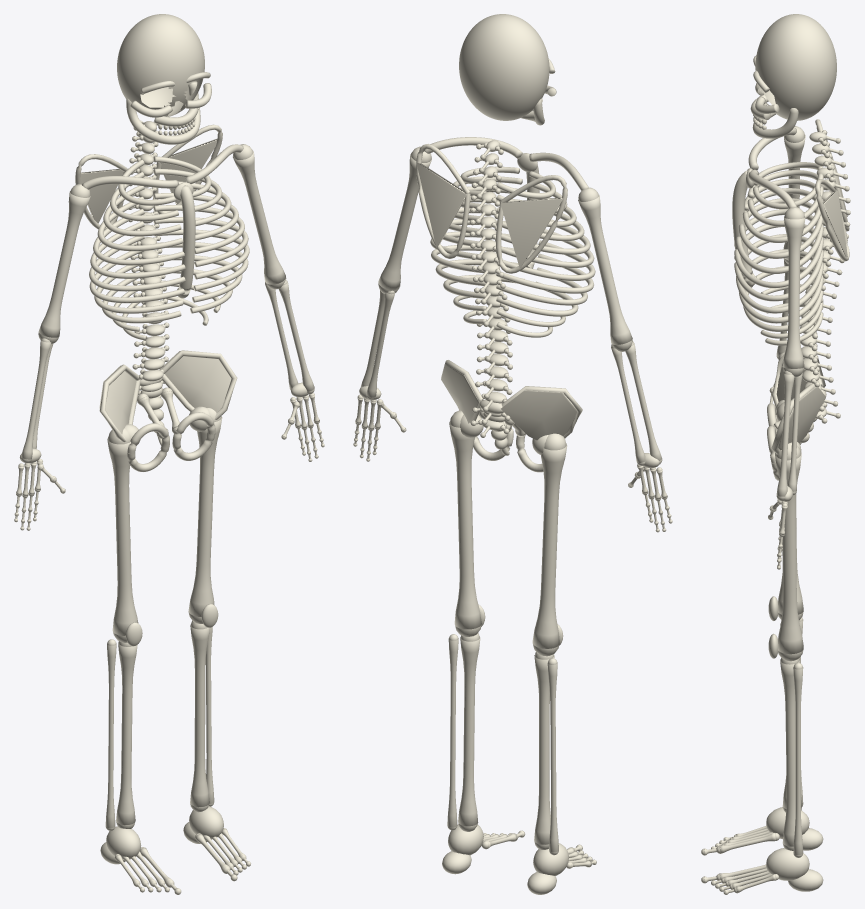
The model's file is skeleton.glb.
The picture shows the model from 3 angles, left to right: view 1: azimuth 30°, elevation 25°; view 2: azimuth 150°, elevation 25°; view 3: azimuth 270°, elevation 25°; orthographic projection. The views are drawn at different scales.
Visible parts, largest first — view 1: right_ribs, skull, left_ribs, left_pelvis, spine, right_femur, right_pelvis, left_femur, left_tibia, right_tibia, right_humerus, right_foot (+14 smaller); view 2: skull, spine, right_ribs, right_femur, left_femur, left_ribs, right_pelvis, right_scapula, left_scapula, left_tibia, right_humerus, right_tibia (+14 smaller); view 3: skull, left_ribs, spine, left_femur, right_ribs, left_foot, left_humerus, left_tibia, right_foot, left_pelvis, left_scapula, left_fibula (+11 smaller).
Part boxes in pixels (x1,y1,x2,y2): right_ribs: (89,160,185,340); skull: (117,14,211,126); left_ribs: (153,156,249,325); left_pelvis: (159,350,237,460); spine: (128,120,169,398); right_femur: (107,424,140,642); right_pelvis: (99,364,169,471); left_femur: (188,406,222,623); left_tibia: (190,620,209,812); right_tibia: (116,641,137,828); right_humerus: (38,184,90,344); right_foot: (100,826,181,894); skull: (459,14,556,120); spine: (469,140,512,437); right_ribs: (496,171,595,337); right_femur: (532,433,567,656); left_femur: (449,410,483,636); left_ribs: (430,166,524,324); right_pelvis: (501,386,582,472); right_scapula: (496,175,567,273); left_scapula: (416,144,470,258); left_tibia: (458,633,480,831); right_humerus: (578,187,632,351); right_tibia: (534,652,554,849); skull: (750,14,836,120); left_ribs: (734,173,823,345); spine: (800,130,850,423); left_femur: (775,442,803,661); right_ribs: (734,162,823,313); left_foot: (701,848,823,894); left_humerus: (782,207,805,377); left_tibia: (780,658,799,850); right_foot: (701,807,823,855); left_pelvis: (767,384,825,480); left_scapula: (815,179,849,261); left_fibula: (793,662,803,857).
Bounding box in the file's own units: 0.6958 × 1.8 × 0.2858.
